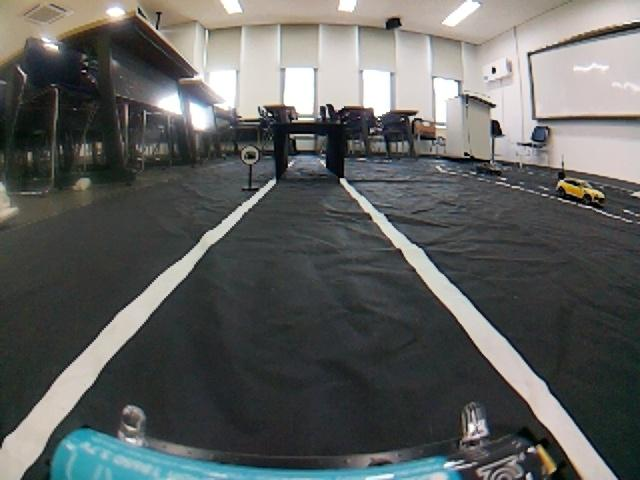sign_tunnel: (240, 145, 260, 165)
straight: (3, 189, 638, 480)
